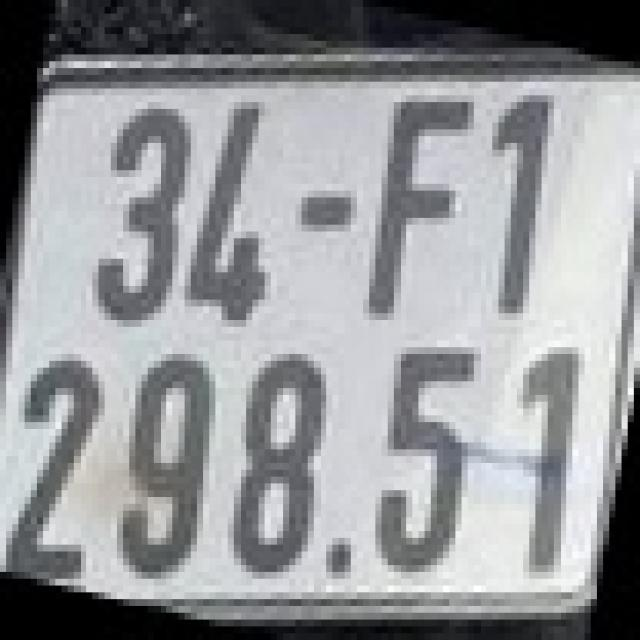1: (510, 340, 584, 579), (483, 85, 557, 317)
2: (0, 358, 105, 576)
3: (89, 105, 188, 324)
4: (188, 99, 274, 323)
5: (375, 340, 480, 572)
8: (228, 347, 326, 579)
9: (114, 354, 218, 579)
F: (363, 89, 474, 320)
